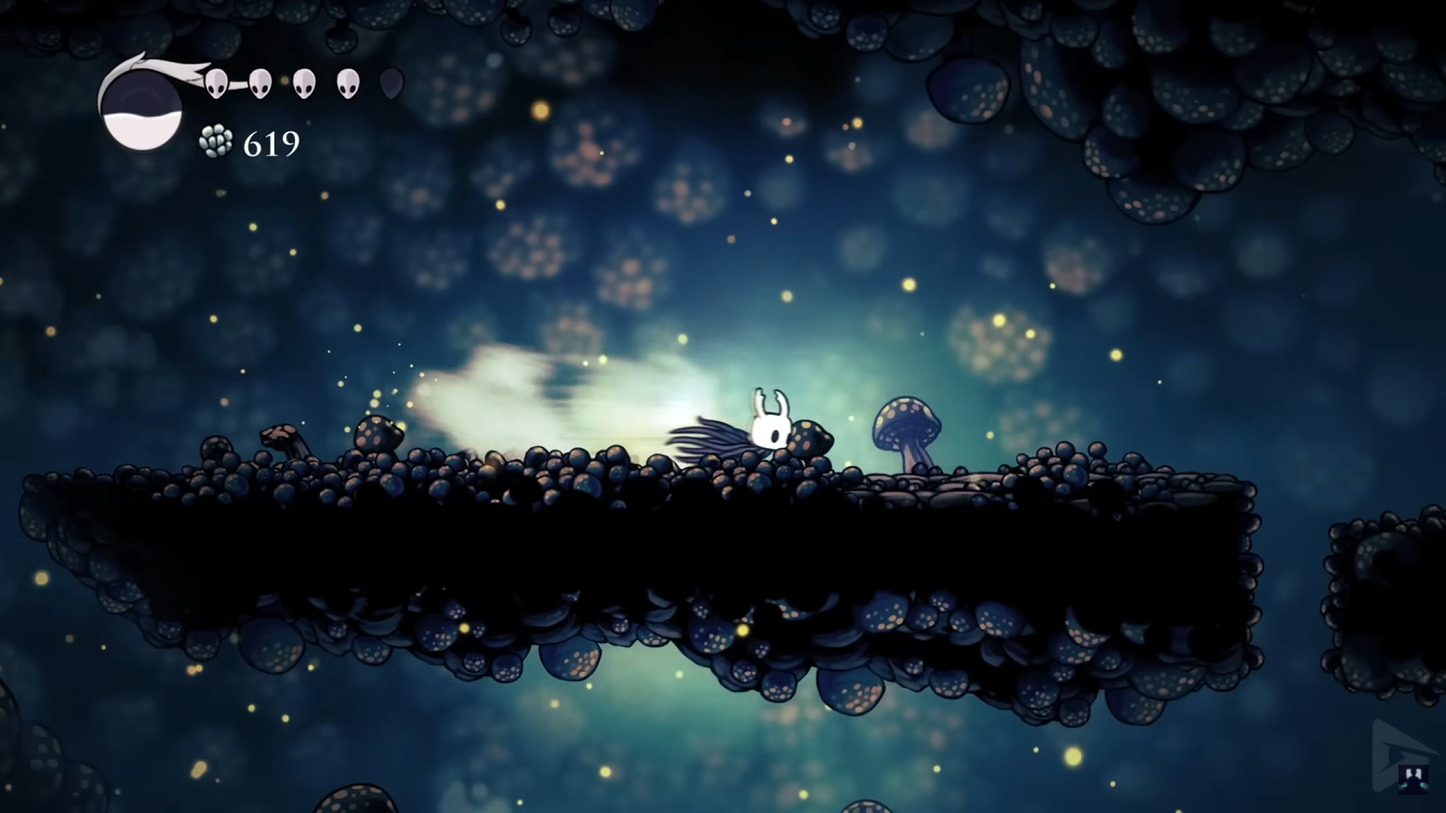HK: (741, 385, 799, 473)
